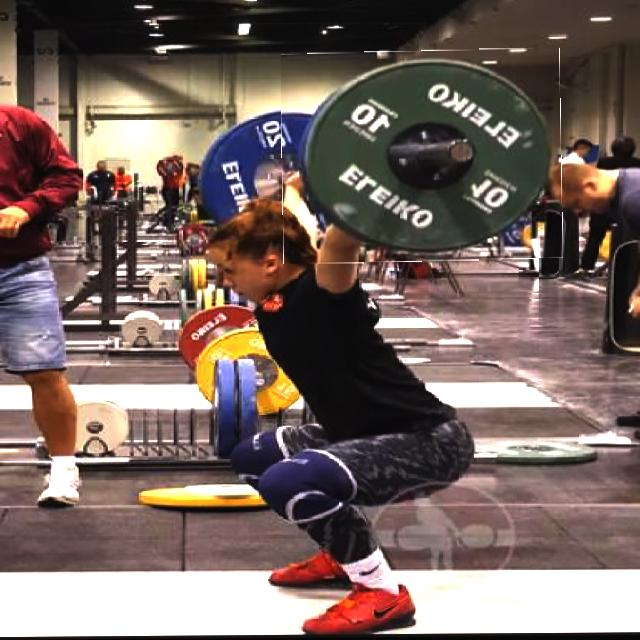barbell: (282, 51, 563, 264)
